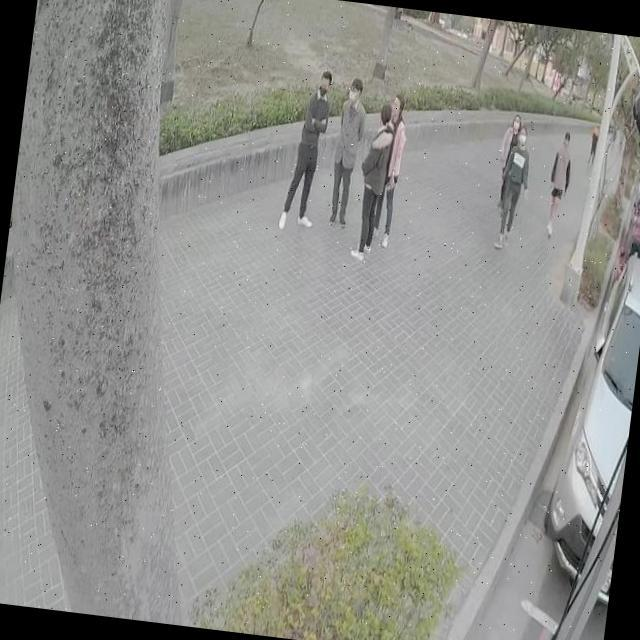person: (346, 95, 400, 268), (282, 66, 332, 230), (366, 88, 414, 250), (491, 116, 539, 252), (326, 76, 366, 226), (538, 127, 576, 243), (490, 109, 524, 210), (584, 119, 602, 164)
